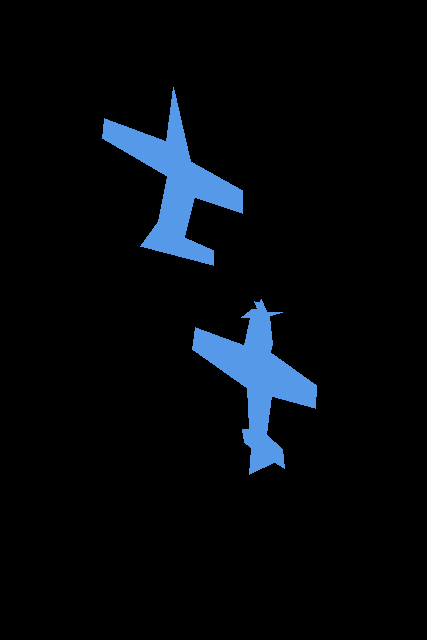Airplane: (102, 87, 242, 265), (192, 299, 316, 474)
